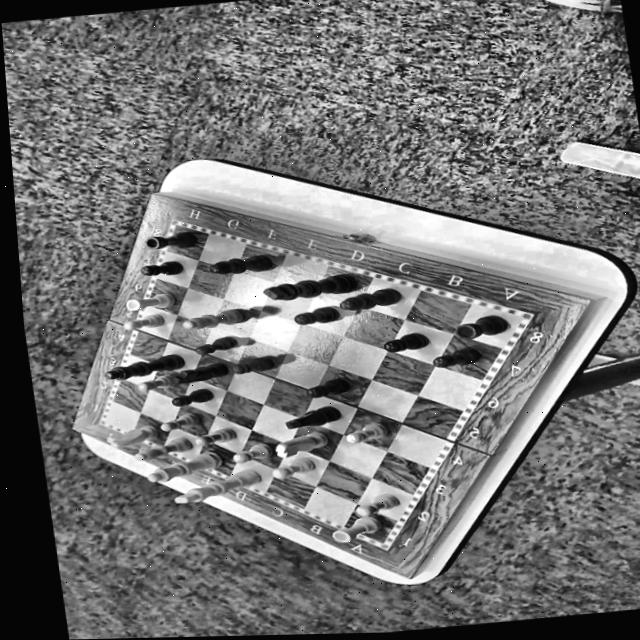chessboard: (103, 225, 518, 542)
